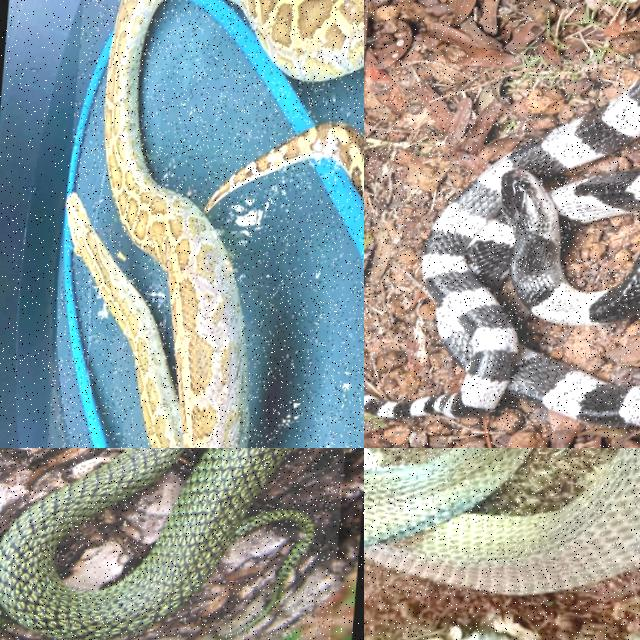Bungarus candidus: (364, 79, 639, 426)
Chrysopelea ornata: (0, 448, 293, 639)
Naja siamensis: (364, 448, 639, 594)
Python bivittatus: (67, 0, 248, 447)
snake: (364, 79, 639, 426), (67, 0, 248, 447), (0, 448, 293, 639), (364, 448, 639, 594)
